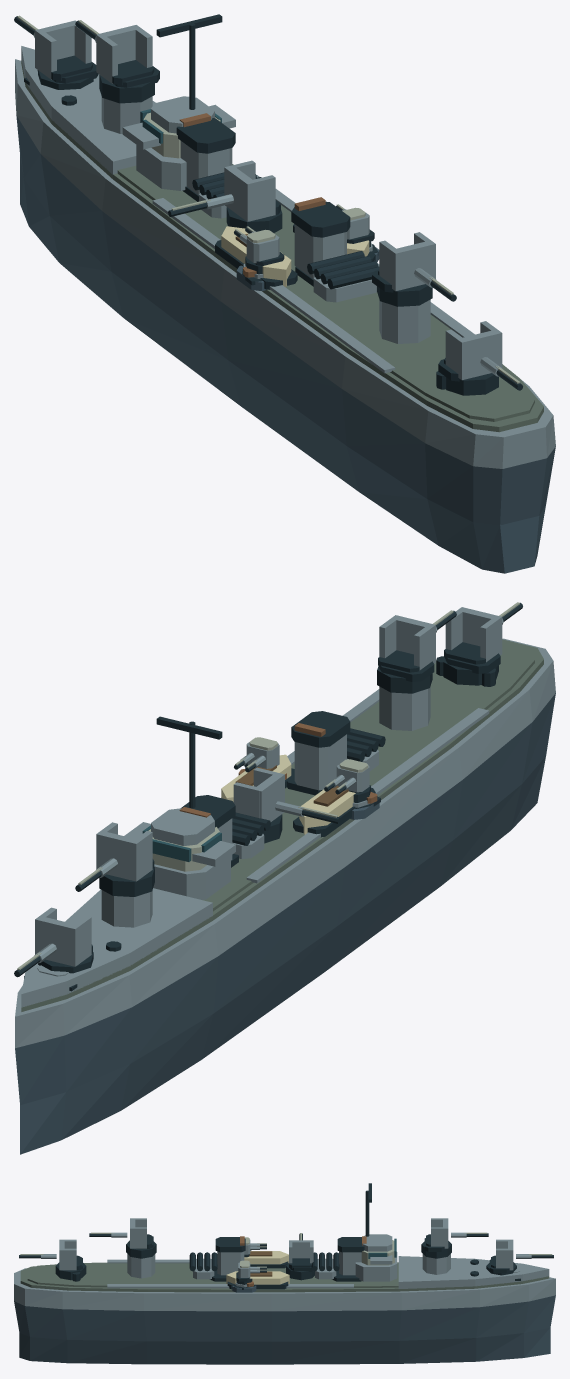
File: historic-farragut-1934.glb
3 renders of one model, top to bottom at view 1: azimuth 30°, elevation 25°; view 2: azimuth 150°, elevation 25°; view 3: azimuth 270°, elevation 25°, orthographic. The views are drawn at different scales.
Parts seen in each view (by area): view 1: historic-farragut-1934-historic-farragut-1934-geometry, historic-farragut-1934-part_bridge.122-geometry, historic-farragut-1934-turret_main_1.084-geometry, historic-farragut-1934-turret_main_4.015-geometry, historic-farragut-1934-turret_main_3.045-geometry, historic-farragut-1934-turret_main_2.070-geometry, historic-farragut-1934-turret_main_0.091-geometry, historic-farragut-1934-historic_funnel_1.065-geometry, historic-farragut-1934-historic_funnel_0.115-geometry, historic-farragut-1934-torpedo_bank_0.031-geometry, historic-farragut-1934-turret_aa_aa-port.124-geometry, historic-farragut-1934-torpedo_bank_1.028-geometry (+1 smaller); view 2: historic-farragut-1934-historic-farragut-1934-geometry, historic-farragut-1934-part_bridge.122-geometry, historic-farragut-1934-turret_main_3.045-geometry, historic-farragut-1934-turret_main_4.015-geometry, historic-farragut-1934-historic_funnel_1.065-geometry, historic-farragut-1934-turret_main_1.084-geometry, historic-farragut-1934-turret_main_0.091-geometry, historic-farragut-1934-turret_main_2.070-geometry, historic-farragut-1934-historic_funnel_0.115-geometry, historic-farragut-1934-torpedo_bank_1.028-geometry, historic-farragut-1934-turret_aa_aa-port.124-geometry, historic-farragut-1934-torpedo_bank_0.031-geometry (+1 smaller); view 3: historic-farragut-1934-historic-farragut-1934-geometry, historic-farragut-1934-part_bridge.122-geometry, historic-farragut-1934-turret_main_1.084-geometry, historic-farragut-1934-turret_main_3.045-geometry, historic-farragut-1934-historic_funnel_1.065-geometry, historic-farragut-1934-turret_main_4.015-geometry, historic-farragut-1934-historic_funnel_0.115-geometry, historic-farragut-1934-turret_main_2.070-geometry, historic-farragut-1934-turret_main_0.091-geometry, historic-farragut-1934-torpedo_bank_0.031-geometry, historic-farragut-1934-torpedo_bank_1.028-geometry, historic-farragut-1934-turret_aa_aa-starboard.120-geometry.
Boxes of the visible parts, left/top/right/bottom form: historic-farragut-1934-historic-farragut-1934-geometry: left=15, top=46, right=555, bottom=573; historic-farragut-1934-part_bridge.122-geometry: left=122, top=14, right=235, bottom=190; historic-farragut-1934-turret_main_1.084-geometry: left=75, top=20, right=159, bottom=103; historic-farragut-1934-turret_main_4.015-geometry: left=438, top=321, right=522, bottom=395; historic-farragut-1934-turret_main_3.045-geometry: left=372, top=232, right=456, bottom=306; historic-farragut-1934-turret_main_2.070-geometry: left=168, top=160, right=282, bottom=232; historic-farragut-1934-turret_main_0.091-geometry: left=14, top=15, right=98, bottom=89; historic-farragut-1934-historic_funnel_1.065-geometry: left=291, top=197, right=350, bottom=286; historic-farragut-1934-historic_funnel_0.115-geometry: left=176, top=113, right=235, bottom=201; historic-farragut-1934-torpedo_bank_0.031-geometry: left=307, top=251, right=379, bottom=302; historic-farragut-1934-turret_aa_aa-port.124-geometry: left=234, top=226, right=284, bottom=274; historic-farragut-1934-torpedo_bank_1.028-geometry: left=192, top=172, right=261, bottom=218; historic-farragut-1934-historic-farragut-1934-geometry: left=15, top=638, right=555, bottom=1154; historic-farragut-1934-part_bridge.122-geometry: left=124, top=716, right=235, bottom=899; historic-farragut-1934-turret_main_3.045-geometry: left=377, top=610, right=456, bottom=693; historic-farragut-1934-turret_main_4.015-geometry: left=443, top=602, right=522, bottom=685; historic-farragut-1934-historic_funnel_1.065-geometry: left=286, top=711, right=350, bottom=795; historic-farragut-1934-turret_main_1.084-geometry: left=75, top=822, right=154, bottom=896; historic-farragut-1934-turret_main_0.091-geometry: left=14, top=907, right=93, bottom=977; historic-farragut-1934-turret_main_2.070-geometry: left=233, top=767, right=340, bottom=843; historic-farragut-1934-historic_funnel_0.115-geometry: left=179, top=795, right=238, bottom=867; historic-farragut-1934-torpedo_bank_1.028-geometry: left=232, top=812, right=270, bottom=858; historic-farragut-1934-turret_aa_aa-port.124-geometry: left=324, top=759, right=370, bottom=802; historic-farragut-1934-torpedo_bank_0.031-geometry: left=347, top=728, right=385, bottom=771; historic-farragut-1934-historic-farragut-1934-geometry: left=14, top=1251, right=555, bottom=1364; historic-farragut-1934-part_bridge.122-geometry: left=355, top=1183, right=397, bottom=1281; historic-farragut-1934-turret_main_1.084-geometry: left=421, top=1218, right=488, bottom=1258; historic-farragut-1934-turret_main_3.045-geometry: left=89, top=1218, right=156, bottom=1258; historic-farragut-1934-historic_funnel_1.065-geometry: left=210, top=1236, right=245, bottom=1281; historic-farragut-1934-turret_main_4.015-geometry: left=19, top=1239, right=86, bottom=1280; historic-farragut-1934-historic_funnel_0.115-geometry: left=332, top=1236, right=366, bottom=1281; historic-farragut-1934-turret_main_2.070-geometry: left=286, top=1233, right=314, bottom=1280; historic-farragut-1934-turret_main_0.091-geometry: left=486, top=1239, right=553, bottom=1275; historic-farragut-1934-torpedo_bank_0.031-geometry: left=189, top=1252, right=217, bottom=1279; historic-farragut-1934-torpedo_bank_1.028-geometry: left=311, top=1252, right=339, bottom=1279; historic-farragut-1934-turret_aa_aa-starboard.120-geometry: left=236, top=1260, right=266, bottom=1284.
Bounding box in the file's own units: 0.6961 × 1.36 × 4.11.
